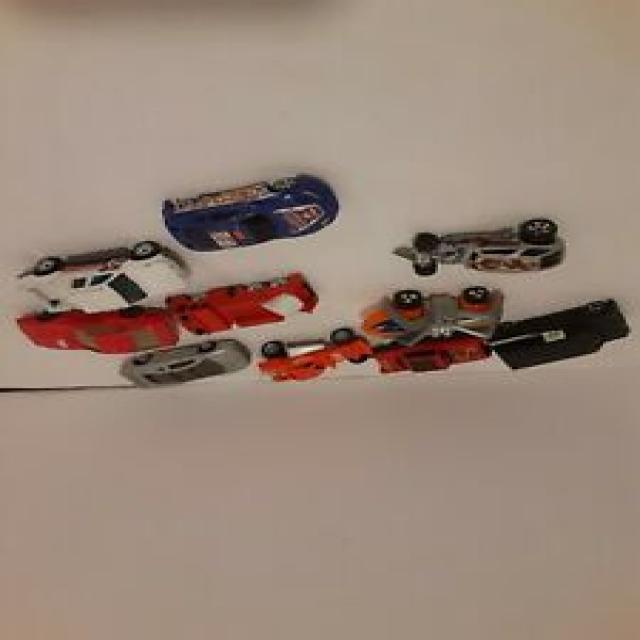Car: (162, 177, 336, 252), (17, 309, 176, 354), (119, 341, 247, 388)
